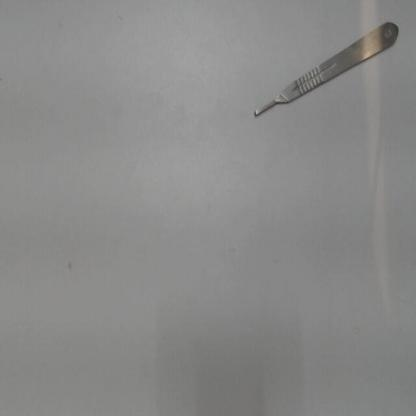No.3 BP Handle: (245, 10, 410, 130)
